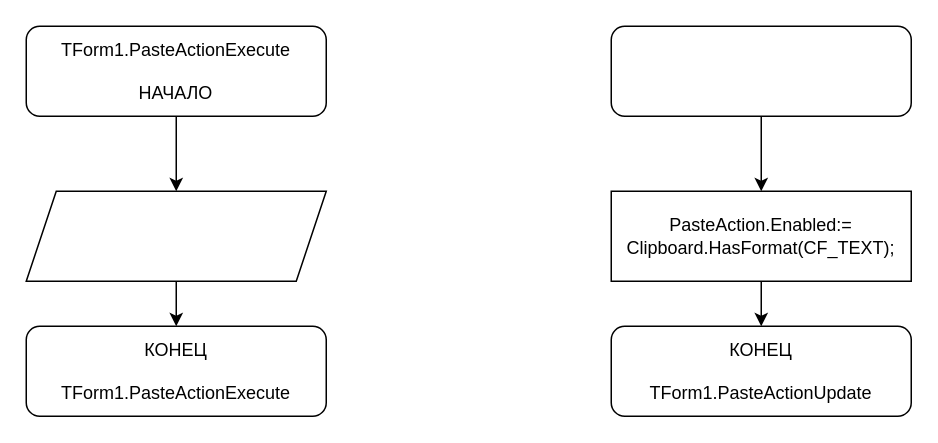
The diagram is 938 pixels wide and 443 high, and some of its shapes have lost their labels. The shapes that lost their labels are listed below. From the top down, each one's centre as x and y in pixels, then its label:
point (760, 70): TForm1.PasteActionUpdate НАЧАЛО
point (175, 235): Memo1.PasteFromClipboard;
